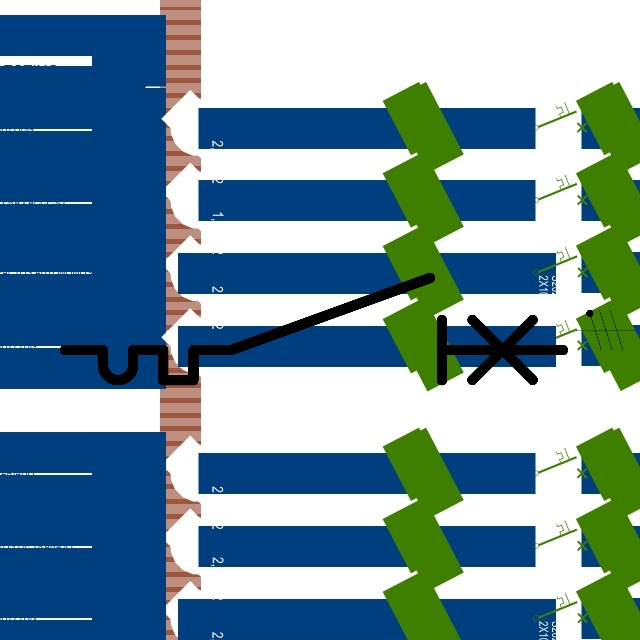interruptor_termomagnetico: (52, 265, 576, 393)
